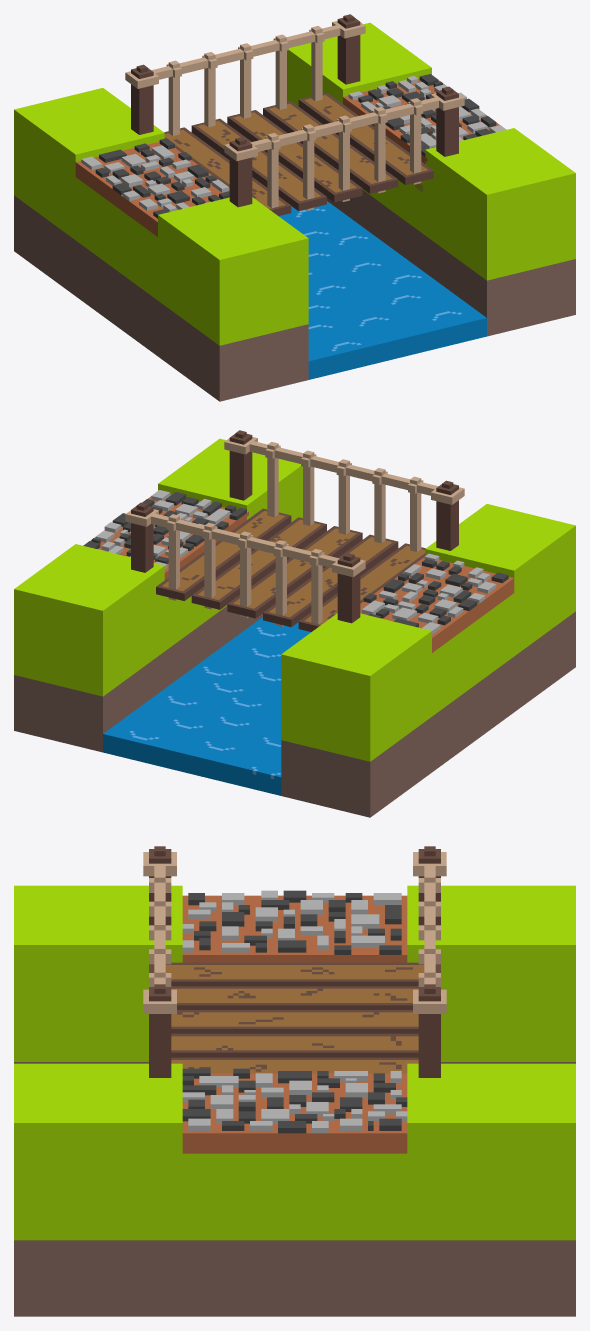
The model's file is River-0-River Bridge.obj.
The picture shows the model from 3 angles, top to bottom: view 1: azimuth 30°, elevation 25°; view 2: azimuth 150°, elevation 25°; view 3: azimuth 270°, elevation 25°; orthographic projection. The views are drawn at different scales.
Visible parts, largest first — view 1: River Bridge; view 2: River Bridge; view 3: River Bridge.
Boxes of the visible parts, bbox=[...] form: River Bridge: bbox=[14, 14, 575, 401]; River Bridge: bbox=[14, 430, 575, 817]; River Bridge: bbox=[14, 846, 575, 1316].
Size of the model in its own units: 10 by 5.5 by 10.
Materials: 1 (1 with a texture image).
